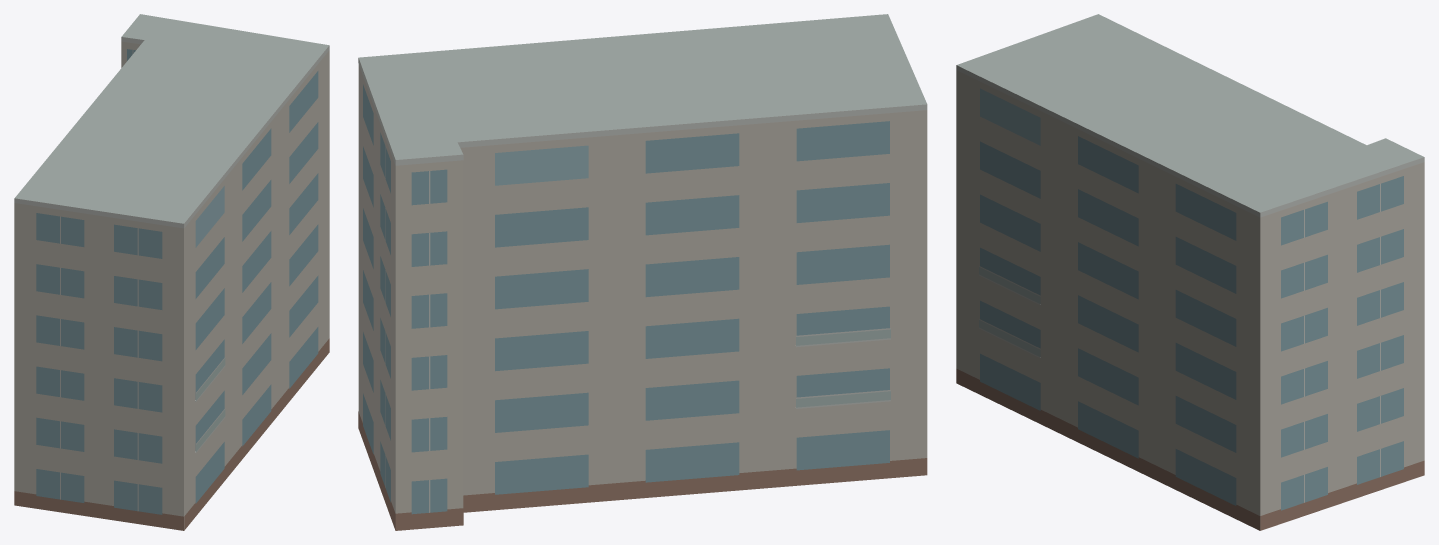
File: survey-upis-32634190.glb
3 views of the same model, side by side, from view 1: azimuth 30°, elevation 25°; view 2: azimuth 150°, elevation 25°; view 3: azimuth 270°, elevation 25° (orthographic). The views are drawn at different scales.
Visible parts, largest first — view 1: survey-upis-32634190.tmp; view 2: survey-upis-32634190.tmp; view 3: survey-upis-32634190.tmp.
Part boxes in pixels (x1=…): survey-upis-32634190.tmp: x1=14, y1=14, x2=329, y2=530; survey-upis-32634190.tmp: x1=358, y1=14, x2=927, y2=530; survey-upis-32634190.tmp: x1=956, y1=14, x2=1424, y2=530.
Size of the model in its own units: 21.17 by 15.8 by 21.08.
